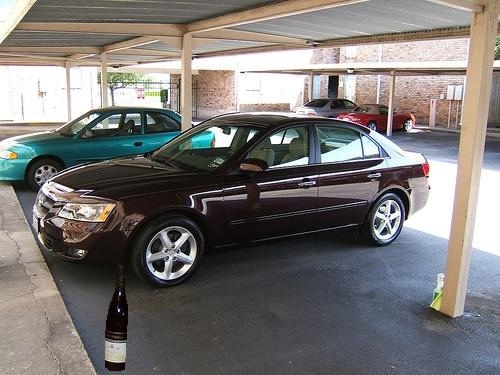tampered: (106, 266, 128, 371)
